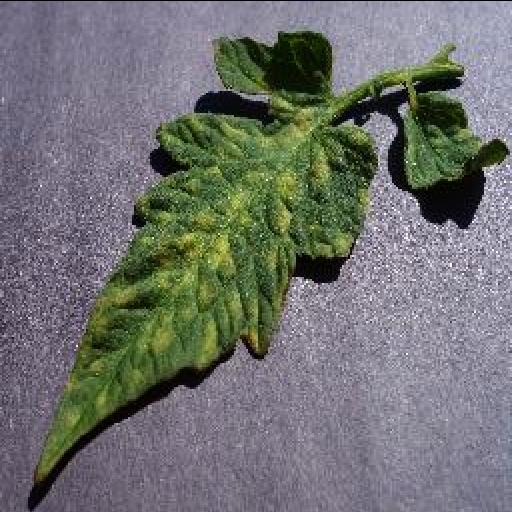disease_tomato: (32, 28, 380, 485)
